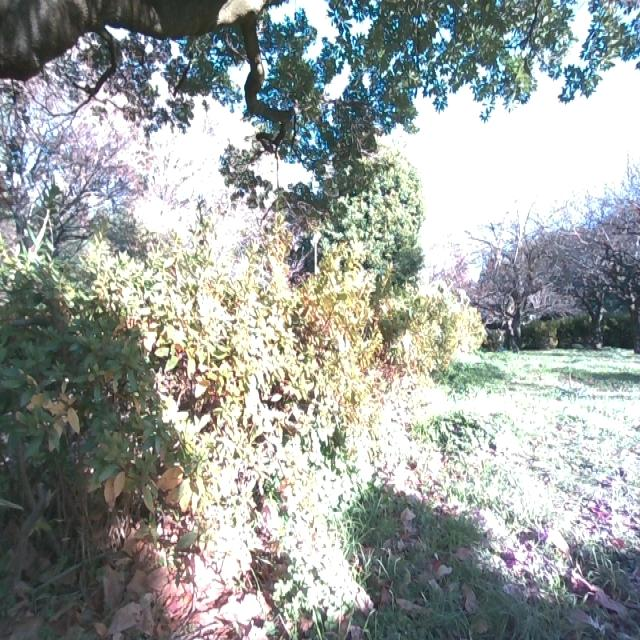bush: (1, 202, 398, 578), (397, 273, 492, 387)
tree: (2, 0, 308, 91), (489, 219, 555, 353), (565, 224, 618, 356)
